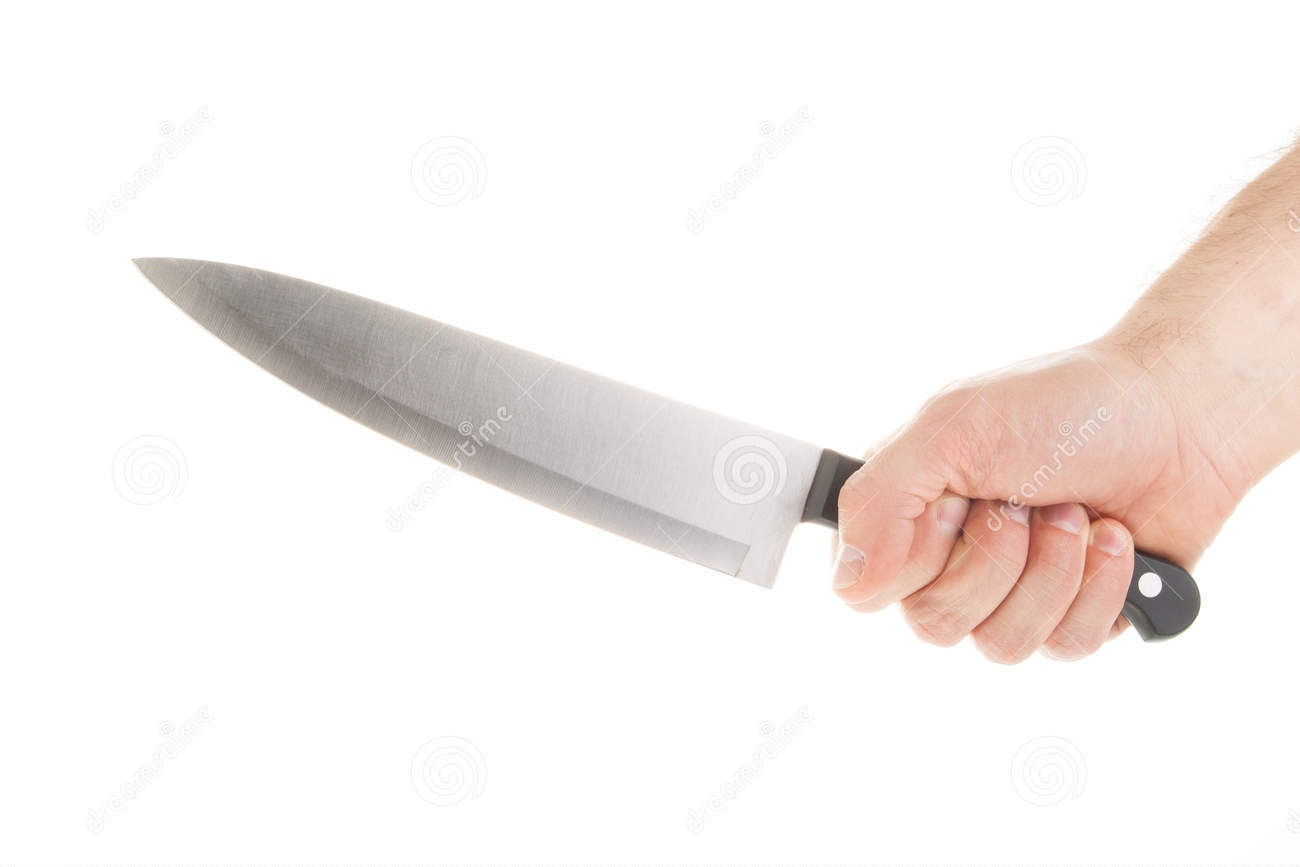knife: (106, 236, 1100, 663)
